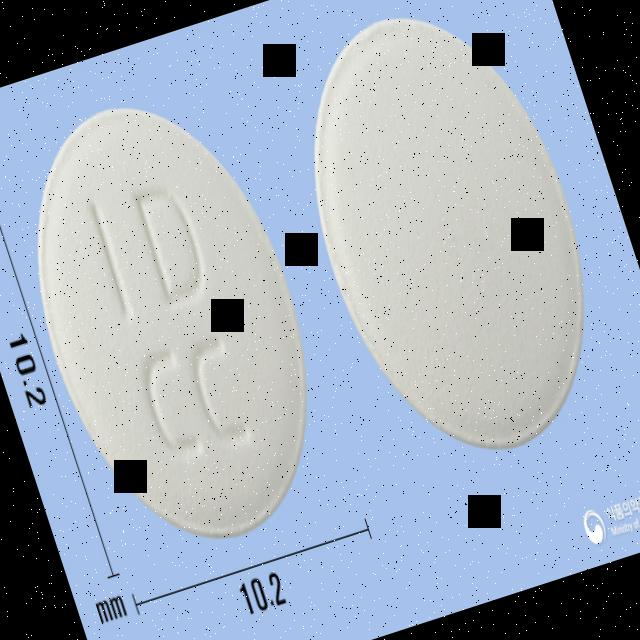Cycin - 500mg: (0, 70, 356, 571)
